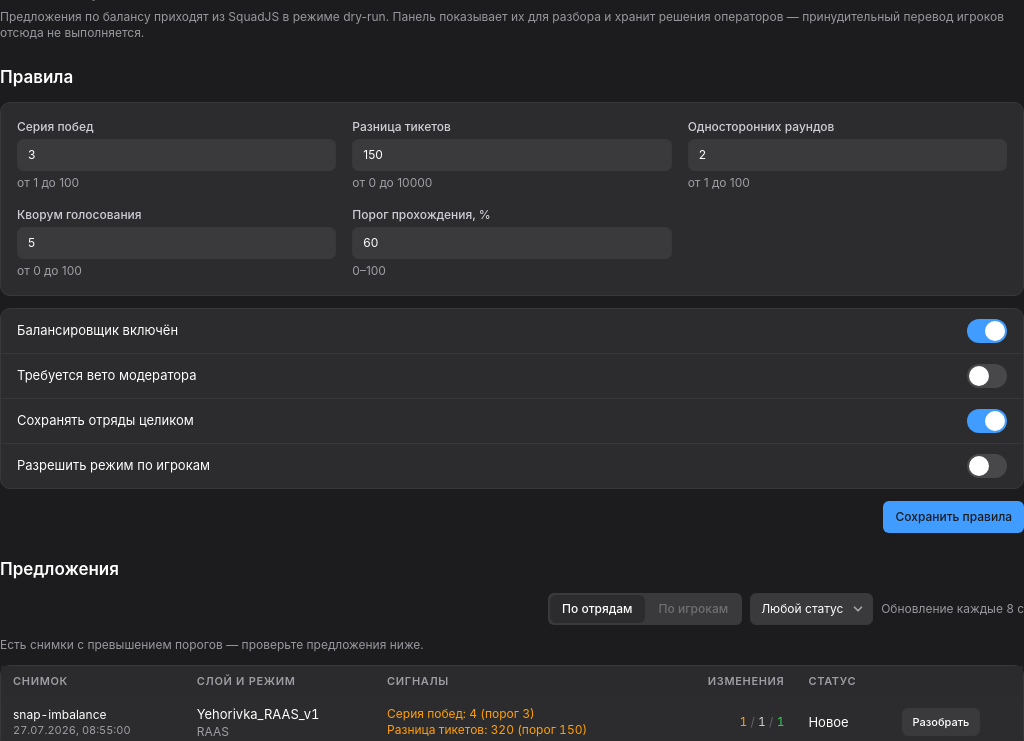
Test case: BalancerBrowser decisions › maps a known API error code to a Russian message
Check: the text "snap-imbalance" is shown, box [13, 707, 106, 722]
Click the button "Разобрать" at (941, 722), box [902, 708, 980, 736]
(page scrolled)
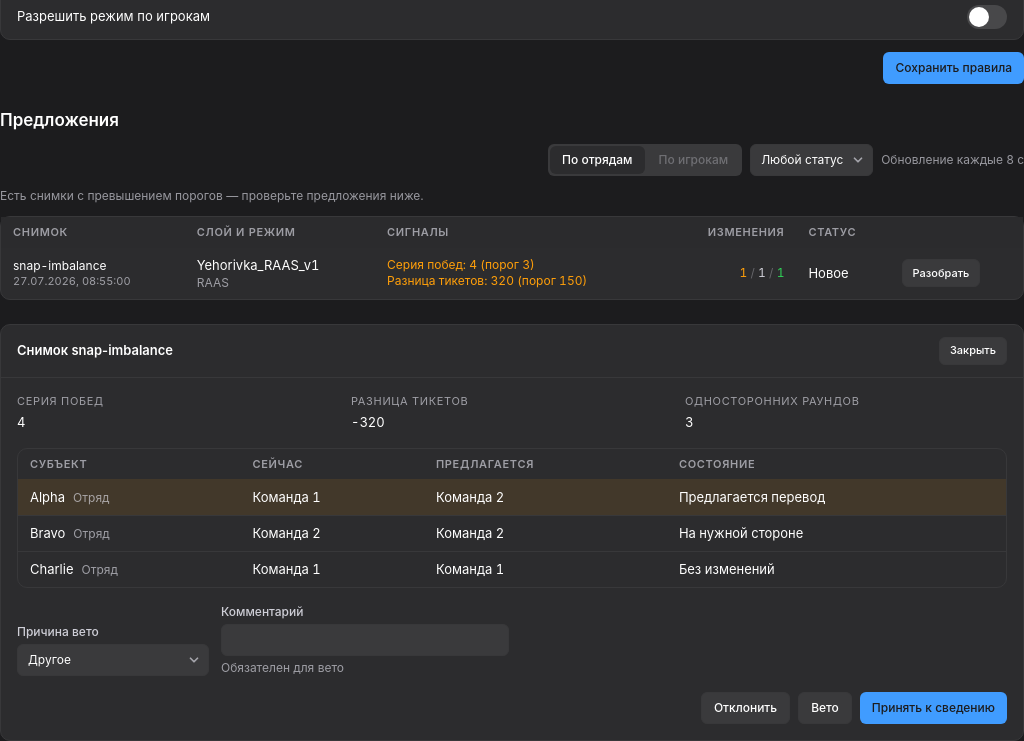
Check: the text "Alpha" is shown, box [30, 489, 65, 505]
Click the button "Отклонить" at (746, 708), box [701, 692, 790, 724]
(page scrolled)
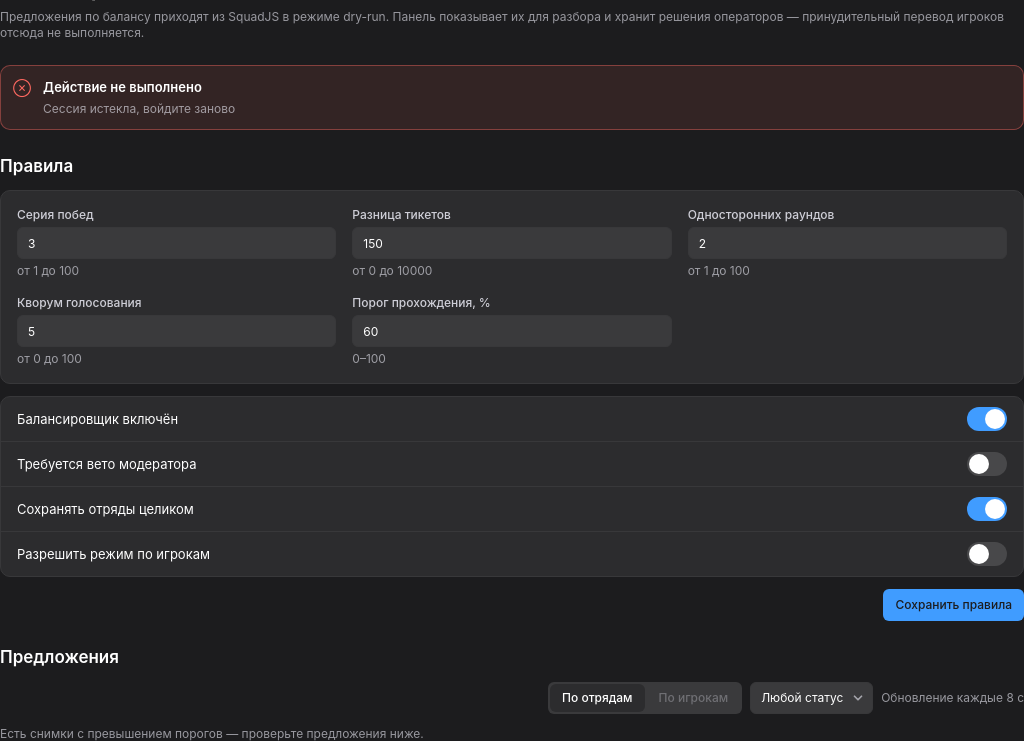
Check: the text "Сессия истекла, войдите заново" is shown, box [43, 101, 235, 116]
